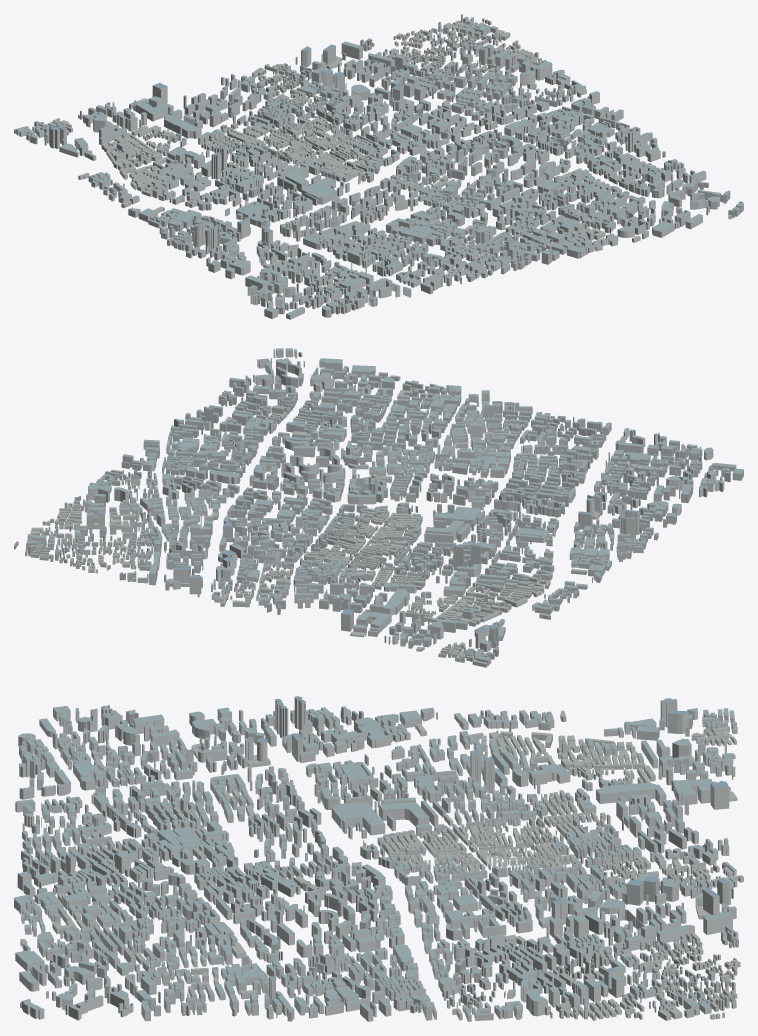
The model's file is far.glb.
The picture shows the model from 3 angles, top to bottom: view 1: azimuth 30°, elevation 25°; view 2: azimuth 150°, elevation 25°; view 3: azimuth 270°, elevation 25°; orthographic projection. The views are drawn at different scales.
Bounding box in the file's own units: 2132 × 102 × 2138.
